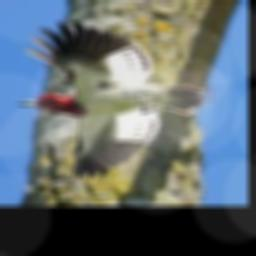Woodpecker: (16, 21, 212, 185)
